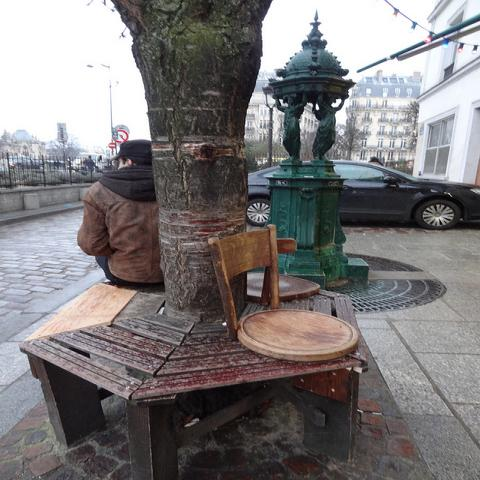car: (246, 159, 479, 230)
